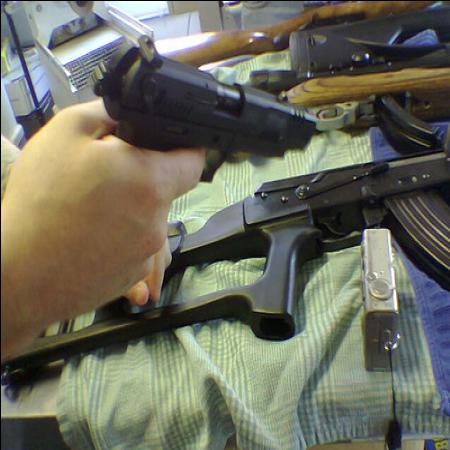Pistol: (81, 32, 316, 176)
